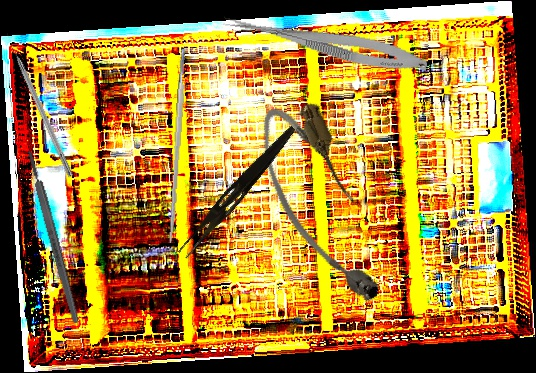Cannula: (246, 92, 395, 319)
Dressing Forceps: (176, 119, 299, 264)
Hook Surgical: (3, 31, 76, 179)
Micro Scissor: (220, 10, 430, 78)
Scalpel Handle: (25, 149, 81, 325), (166, 48, 189, 244)
